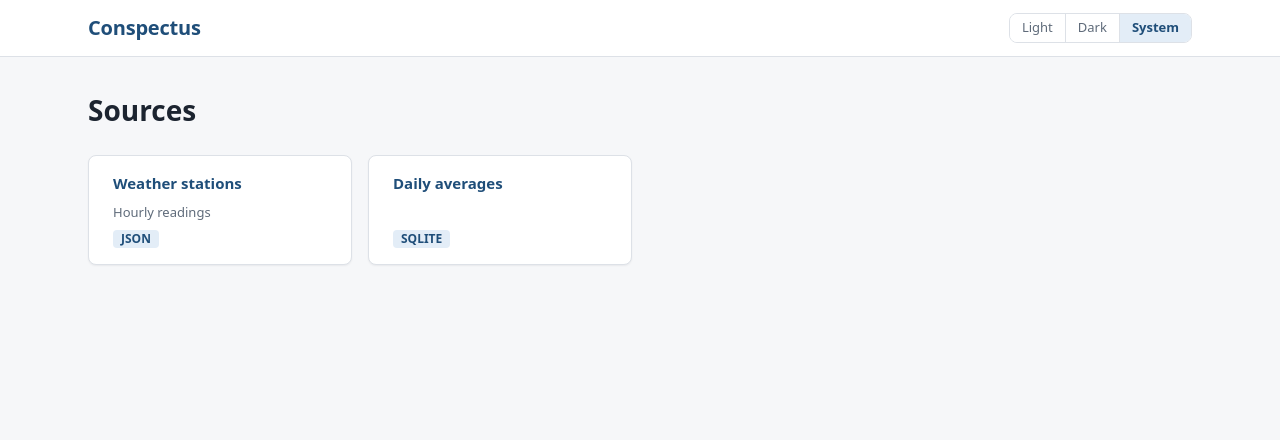
SourcesPage › opens a dataset when a source is clicked
Click the link "Weather stations Hourly readings json" at (177, 183), box [88,155,352,265]
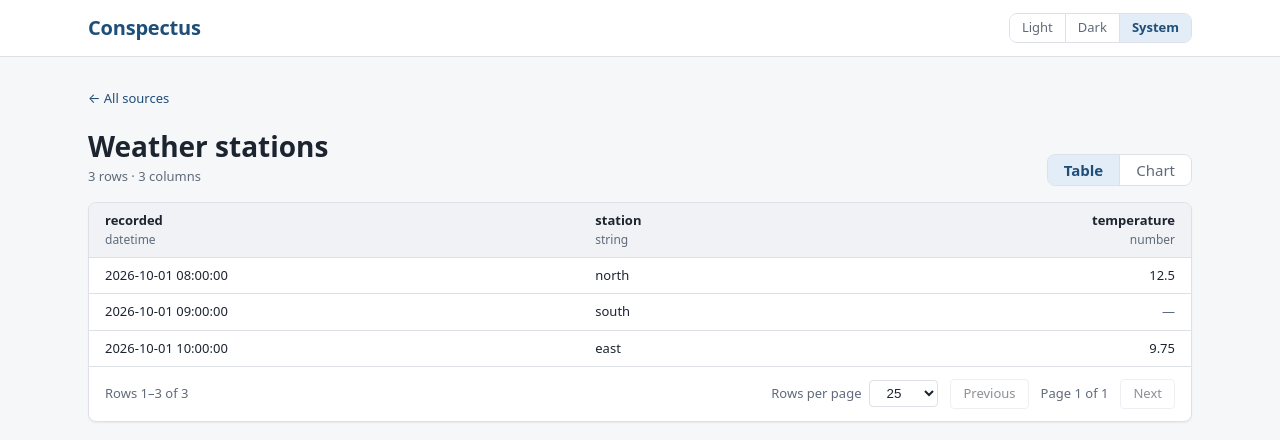
Check: the heading "Weather stations" is shown, box [88,124,328,166]
